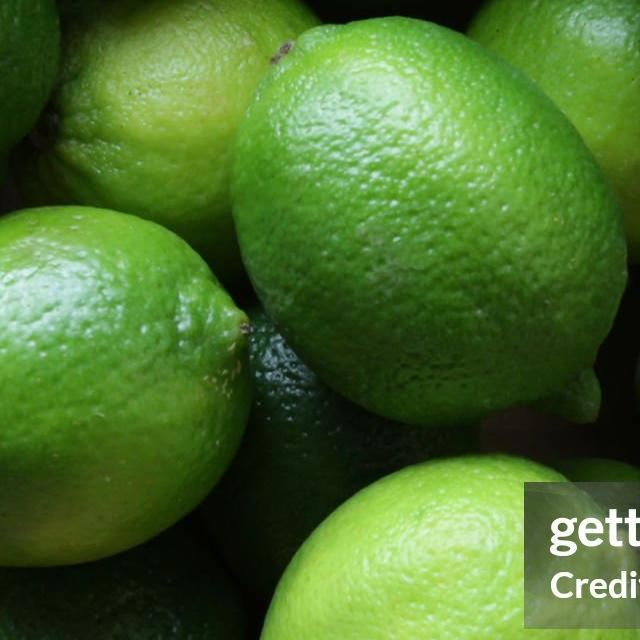lime: (227, 18, 638, 431), (0, 207, 259, 573)
